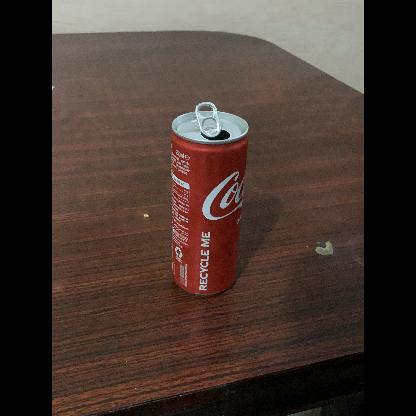Lid_Open: (190, 98, 237, 146)
Tin_Can: (157, 78, 249, 304)
